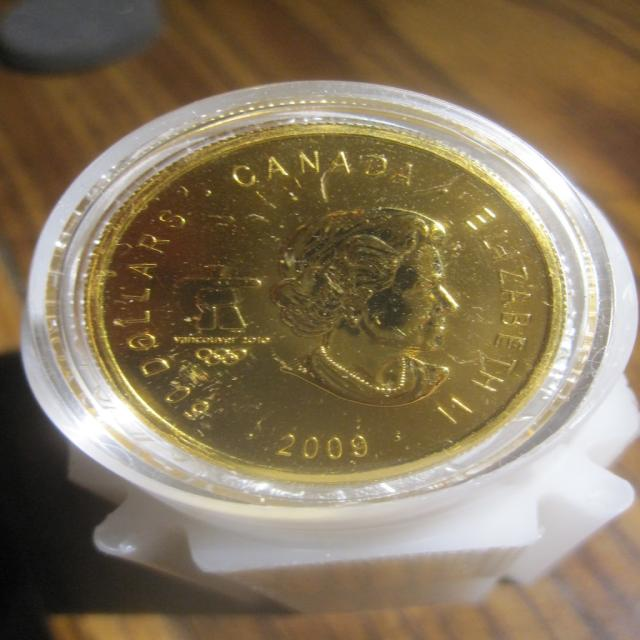Coin: (87, 122, 566, 488)
